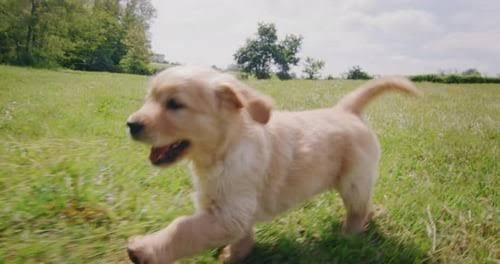puppy-dog: (123, 65, 422, 264)
